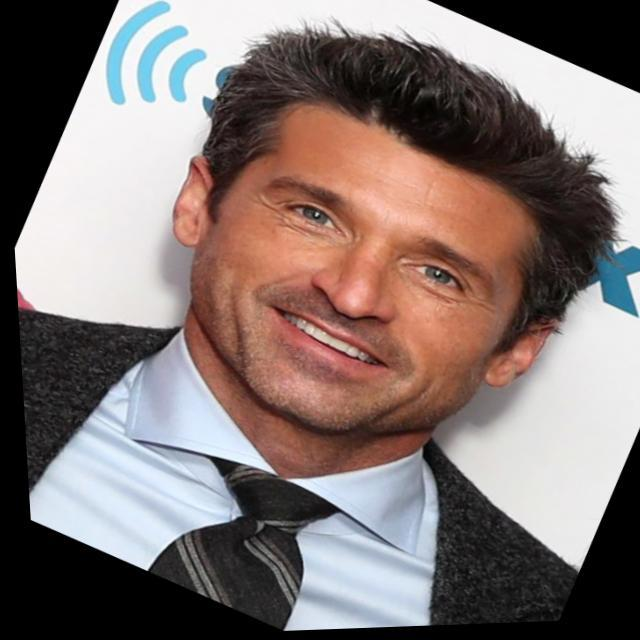Nonhelmet: (167, 19, 621, 439)
